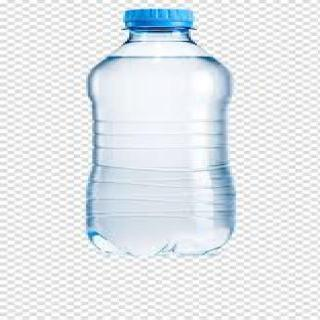Anorganik: (76, 3, 250, 262)
